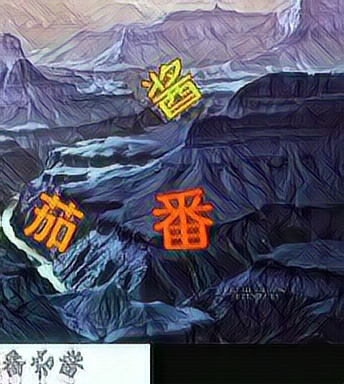B7AC: (147, 186, 213, 250)
BDB4: (139, 56, 205, 120)
C7D1: (19, 189, 85, 253)
